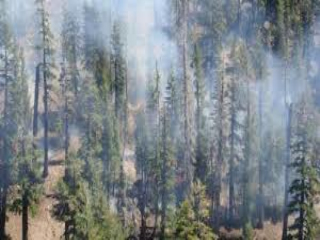smoke: (116, 17, 198, 164), (241, 66, 308, 215)
